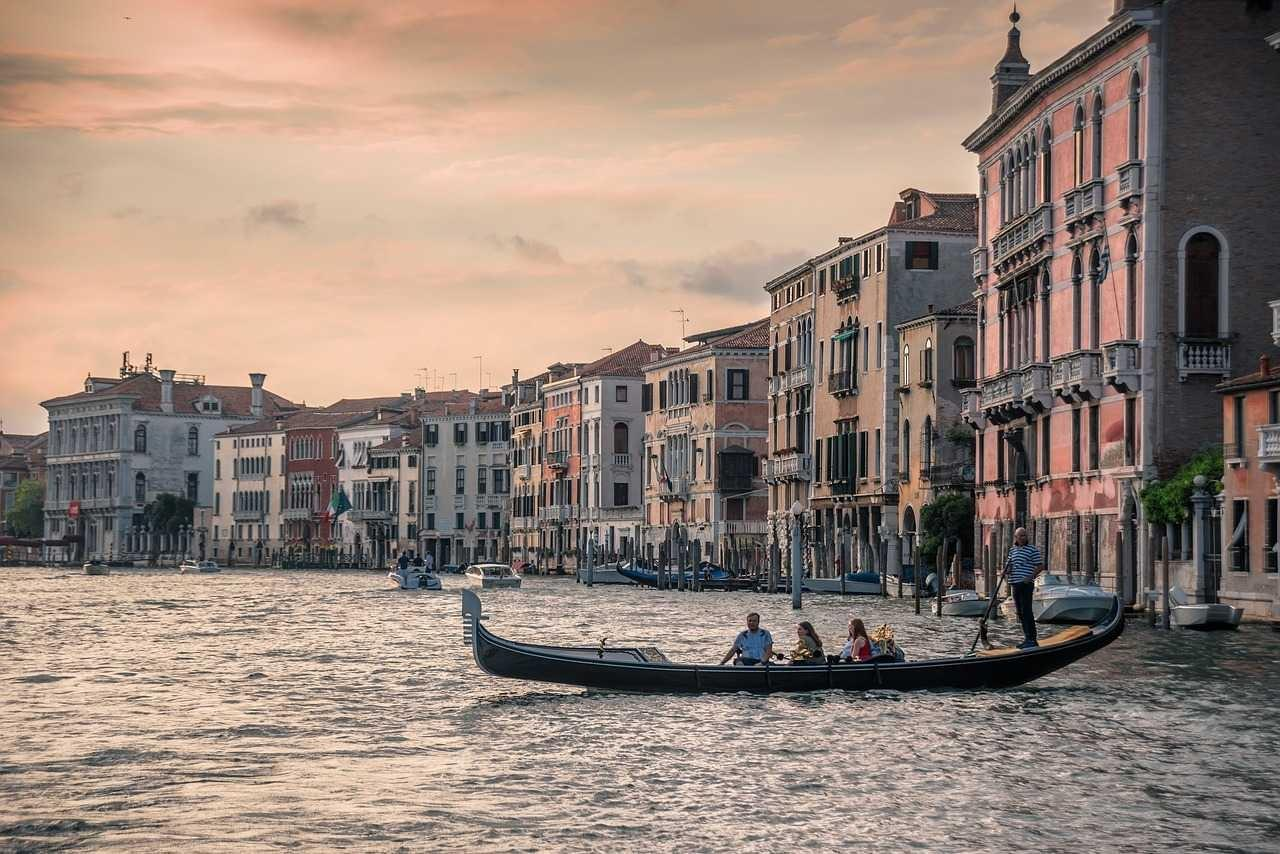kayak: (458, 580, 1124, 701), (1171, 601, 1242, 629), (464, 562, 522, 589), (390, 566, 443, 589), (618, 563, 659, 583), (196, 558, 221, 571)
